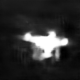plane: (16, 28, 71, 63)
